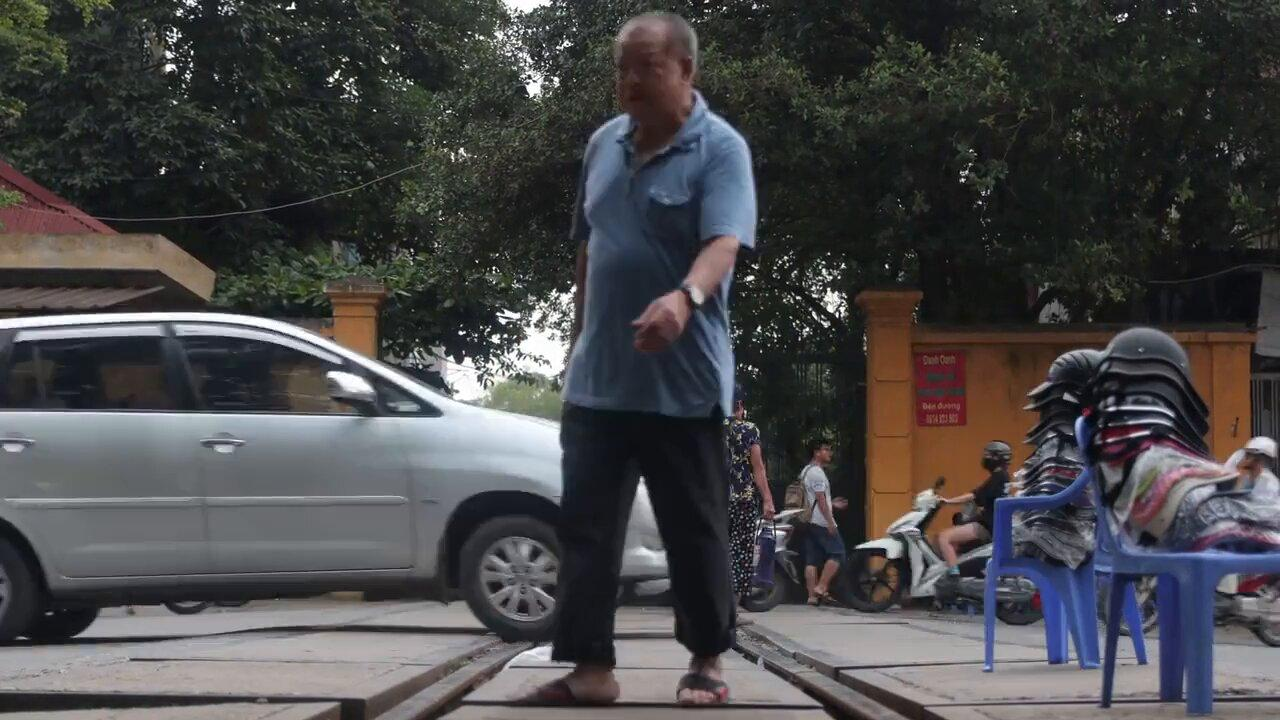driver: (843, 440, 1043, 626)
helmet: (980, 439, 1014, 472)
no-helmet: (613, 9, 699, 118)
